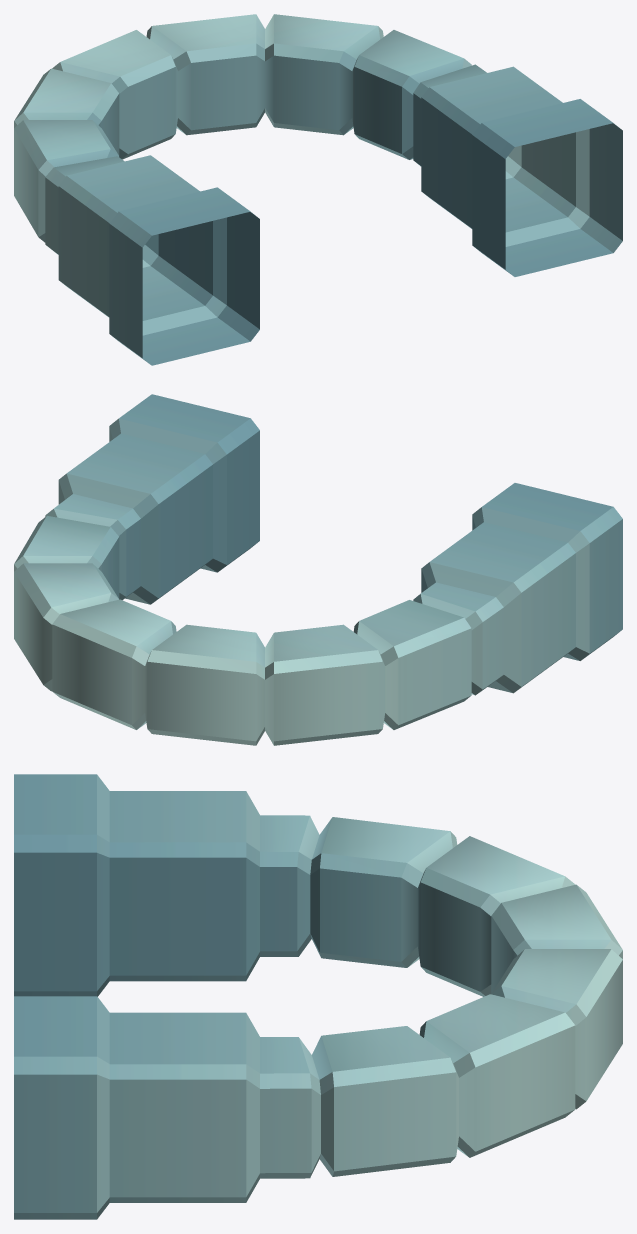
File: Arch Gate 01.FBX
The picture shows the model from 3 angles, top to bottom: view 1: azimuth 30°, elevation 25°; view 2: azimuth 150°, elevation 25°; view 3: azimuth 270°, elevation 25°; orthographic projection. The views are drawn at different scales.
Parts seen in each view (by area): view 1: Arch Gate 01; view 2: Arch Gate 01; view 3: Arch Gate 01.
Part boxes in pixels (x1,y1,x2,y2): Arch Gate 01: (14,14,622,365); Arch Gate 01: (14,394,622,745); Arch Gate 01: (14,774,622,1219).
Bounding box in the file's own units: 633 × 555 × 164.
Materials: 1 (1 with a texture image).
